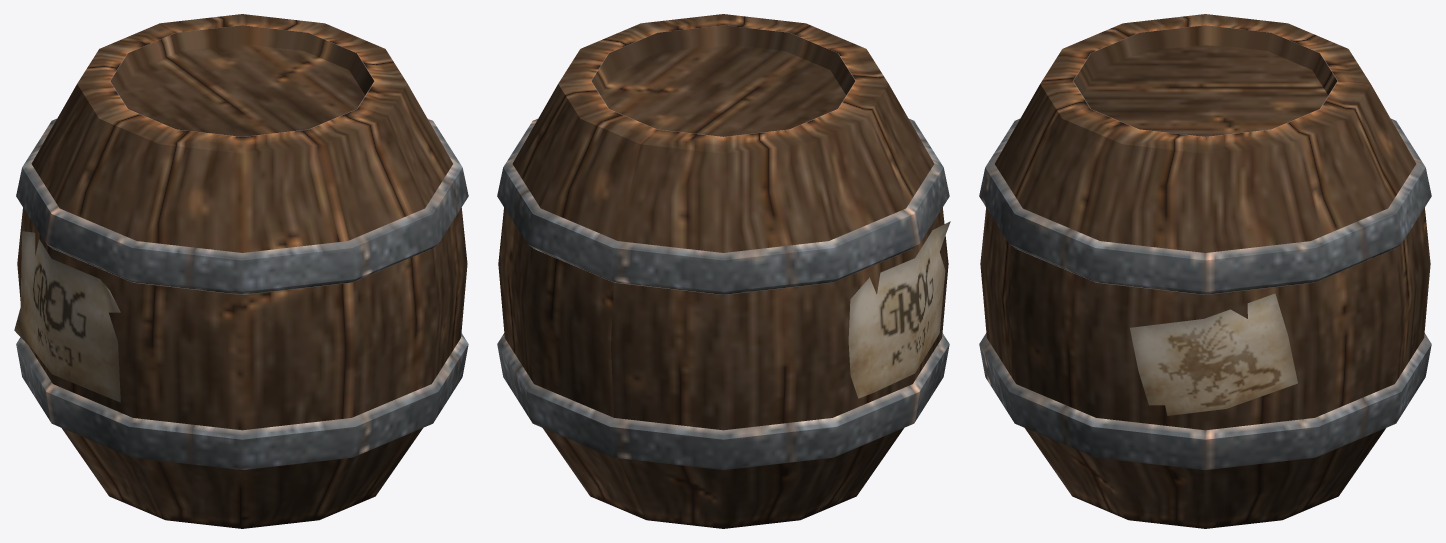
File: SM_Barrel.fbx
The picture shows the model from 3 angles, left to right: view 1: azimuth 30°, elevation 25°; view 2: azimuth 150°, elevation 25°; view 3: azimuth 270°, elevation 25°; orthographic projection.
Visible parts, largest first — view 1: Barrel1, Note03; view 2: Barrel1, Note03; view 3: Barrel1, Note04.
Part boxes in pixels (left/top/right/bottom): Barrel1: left=16, top=14, right=468, bottom=528; Note03: left=14, top=231, right=120, bottom=402; Barrel1: left=497, top=14, right=949, bottom=528; Note03: left=848, top=221, right=950, bottom=398; Barrel1: left=979, top=14, right=1431, bottom=528; Note04: left=1130, top=293, right=1297, bottom=415.
Bounding box in the file's own units: 2.07 × 1.91 × 2.05.
1 material, 1 textured.
